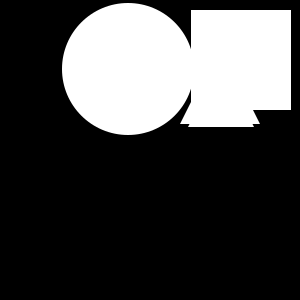circle: (191, 10, 291, 110)
rectangle: (62, 3, 194, 135)
triangle: (180, 44, 260, 124), (188, 61, 254, 127)
